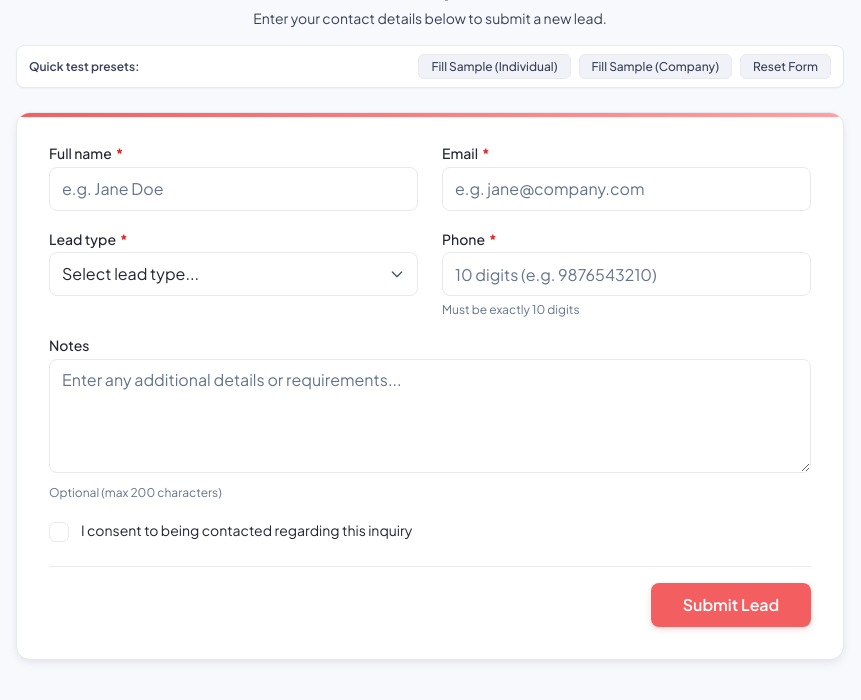
Test case: LeadCapturePage › blocks submit while form is invalid, showing every current error
(page scrolled)
Click the button "Submit Lead": (731, 604) [651, 582, 811, 626]
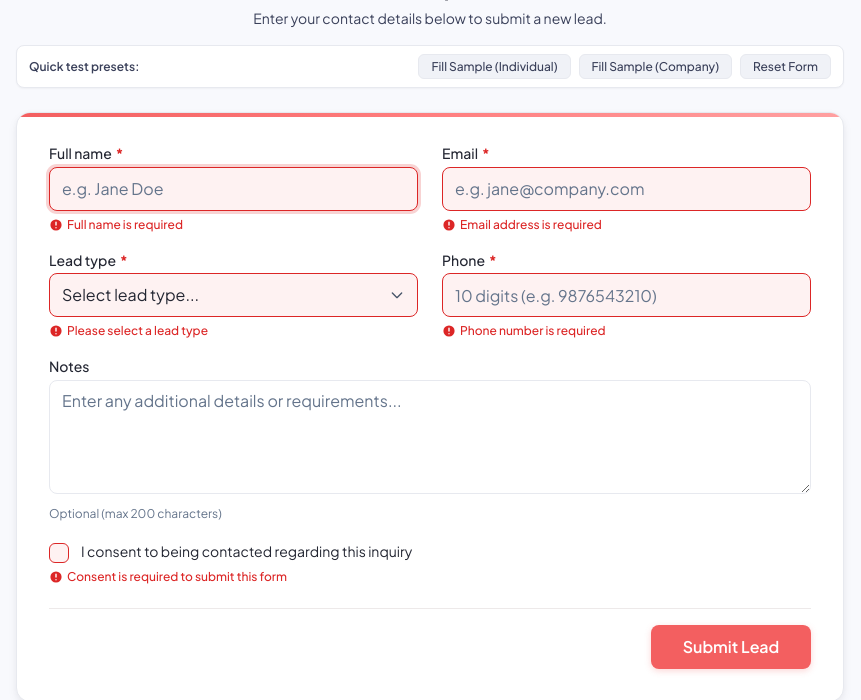
Expected: the text "Full name is required" is shown, [67, 216, 183, 232]
Expected: the text "Email address is required" is shown, [460, 216, 602, 232]
Expected: the text "Please select a lead type" is shown, [67, 323, 208, 338]
